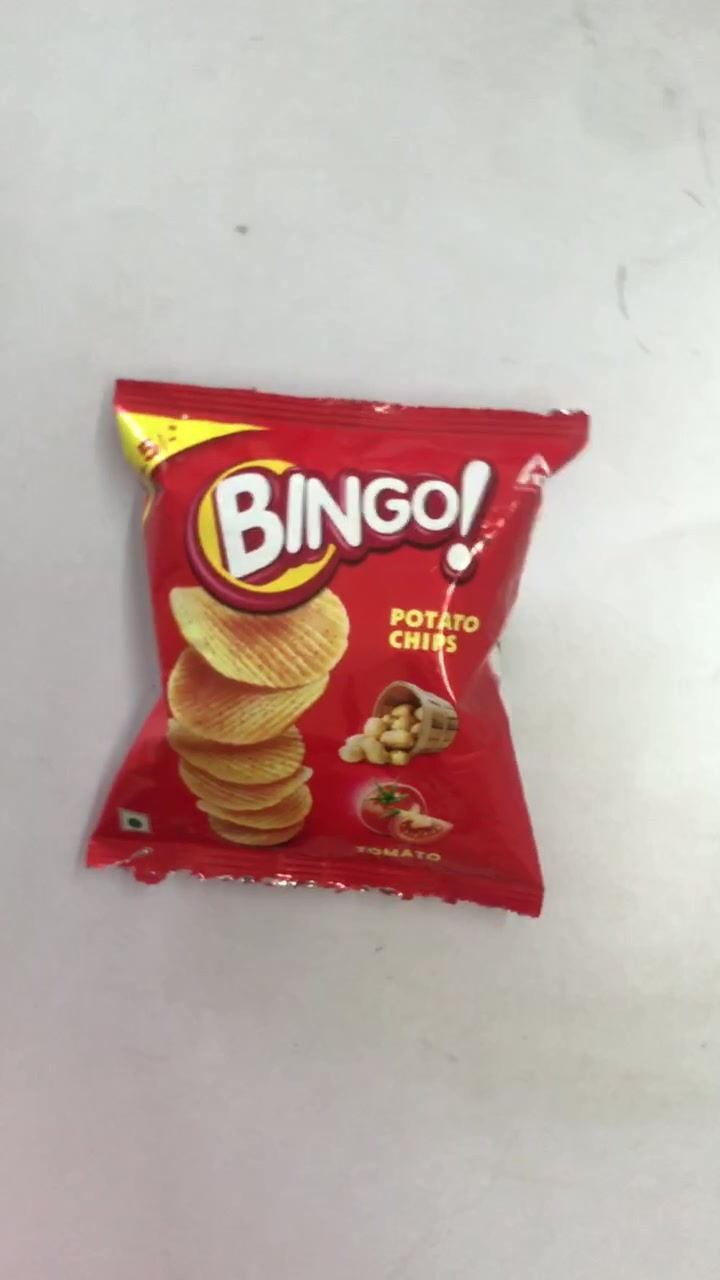Bingo: (83, 377, 594, 917)
